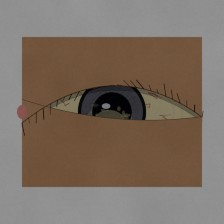corneal_ulcer: (85, 101, 133, 140)
